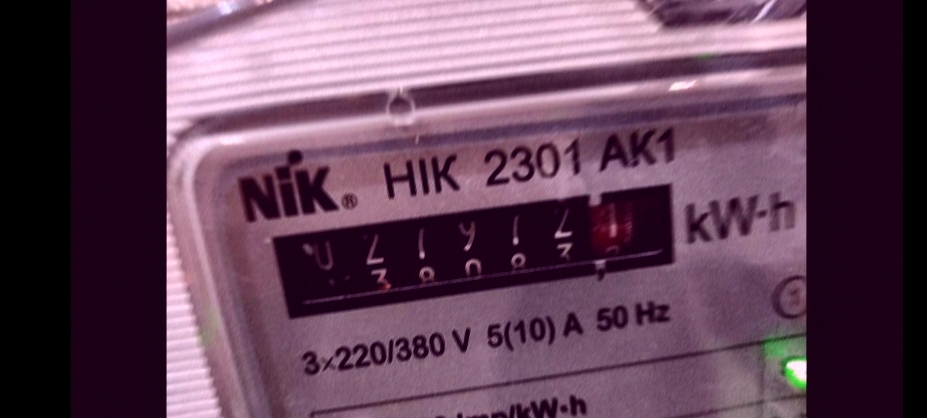0: (310, 234, 338, 270)
1: (603, 197, 625, 240)
2: (359, 225, 388, 264), (549, 201, 577, 238)
7: (502, 206, 528, 247), (409, 222, 432, 259)
9: (456, 215, 482, 250)
screen: (256, 173, 708, 327)
